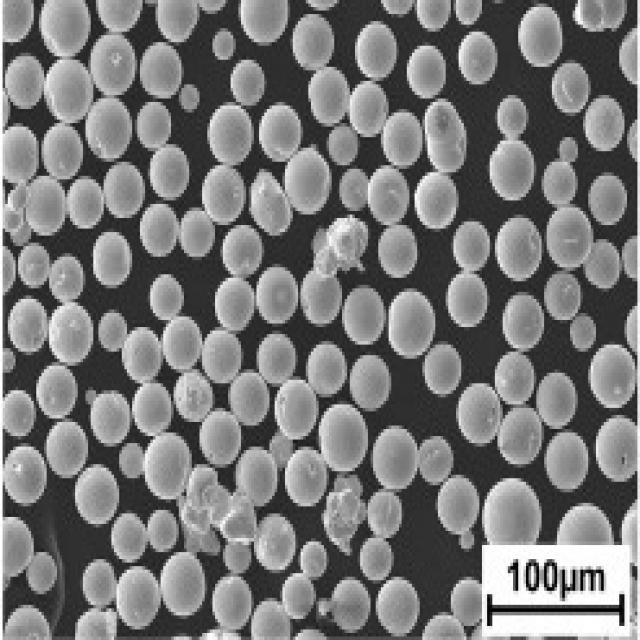cells: (318, 470, 368, 557), (315, 403, 370, 480), (485, 478, 542, 546), (484, 135, 539, 205), (42, 56, 94, 127), (542, 202, 594, 272), (82, 95, 134, 165), (314, 217, 370, 281), (591, 412, 640, 485), (87, 30, 138, 99), (496, 213, 544, 286), (70, 462, 121, 530), (513, 6, 565, 72), (456, 382, 504, 452), (112, 566, 160, 636), (144, 433, 194, 500), (158, 552, 208, 619), (389, 287, 433, 363), (286, 9, 337, 74), (372, 424, 418, 496), (588, 342, 637, 409), (495, 406, 546, 470), (426, 100, 470, 174), (206, 100, 254, 167), (283, 444, 330, 512), (283, 148, 332, 213), (351, 16, 397, 85), (2, 444, 50, 510), (50, 302, 100, 365), (339, 283, 388, 347), (580, 90, 626, 158), (444, 268, 491, 334), (30, 362, 80, 424), (251, 168, 294, 238), (36, 123, 86, 183), (253, 265, 300, 328), (413, 169, 459, 233), (253, 510, 298, 575), (38, 0, 92, 54), (201, 165, 248, 227), (227, 369, 273, 432), (436, 475, 481, 539), (147, 140, 192, 203), (534, 365, 578, 429), (233, 447, 279, 508), (88, 230, 134, 290), (118, 328, 164, 388), (25, 175, 66, 242), (274, 380, 319, 441), (500, 292, 546, 351), (377, 576, 420, 639), (351, 350, 393, 414), (162, 312, 206, 373), (587, 168, 631, 229), (545, 430, 589, 491), (380, 111, 426, 169), (258, 103, 302, 163), (6, 298, 48, 360), (209, 279, 256, 334), (0, 119, 38, 187), (308, 66, 351, 126), (367, 166, 411, 224), (238, 0, 290, 49), (199, 407, 242, 466), (456, 28, 498, 88), (136, 202, 180, 258), (348, 80, 389, 140), (329, 574, 371, 632), (88, 390, 130, 448), (379, 225, 422, 281), (48, 420, 88, 480), (140, 44, 183, 98), (104, 162, 144, 220), (222, 224, 264, 279), (202, 329, 242, 386), (406, 44, 448, 98), (4, 56, 46, 110), (213, 574, 252, 632), (306, 341, 347, 396), (302, 269, 342, 325), (552, 61, 592, 116), (494, 352, 534, 406), (111, 508, 148, 566), (132, 100, 172, 153), (133, 382, 172, 436), (46, 252, 86, 304), (174, 372, 212, 426), (256, 333, 296, 383), (422, 342, 461, 393), (543, 270, 582, 321), (178, 206, 216, 258), (416, 434, 454, 486), (3, 516, 34, 579), (453, 219, 491, 270), (155, 0, 198, 45), (584, 238, 621, 289), (570, 0, 627, 32), (148, 270, 185, 319), (70, 178, 104, 230), (367, 491, 403, 540), (83, 558, 118, 608), (282, 570, 316, 620), (492, 93, 528, 140), (542, 161, 578, 208), (232, 57, 266, 106), (96, 0, 145, 33), (252, 600, 292, 640), (326, 119, 360, 166), (360, 535, 394, 581), (337, 166, 369, 214), (96, 308, 128, 355), (4, 390, 36, 437), (0, 0, 34, 42), (25, 552, 58, 595), (450, 577, 480, 624), (18, 243, 50, 286), (74, 608, 118, 639), (149, 509, 179, 554), (414, 0, 451, 32), (268, 431, 295, 472), (618, 28, 637, 83), (120, 443, 146, 480), (224, 539, 252, 573), (301, 541, 327, 577), (572, 314, 596, 352), (211, 30, 237, 63), (178, 83, 202, 118), (453, 0, 484, 27), (622, 234, 638, 281), (556, 135, 579, 165), (315, 599, 332, 618), (460, 533, 474, 551), (86, 387, 97, 404)
